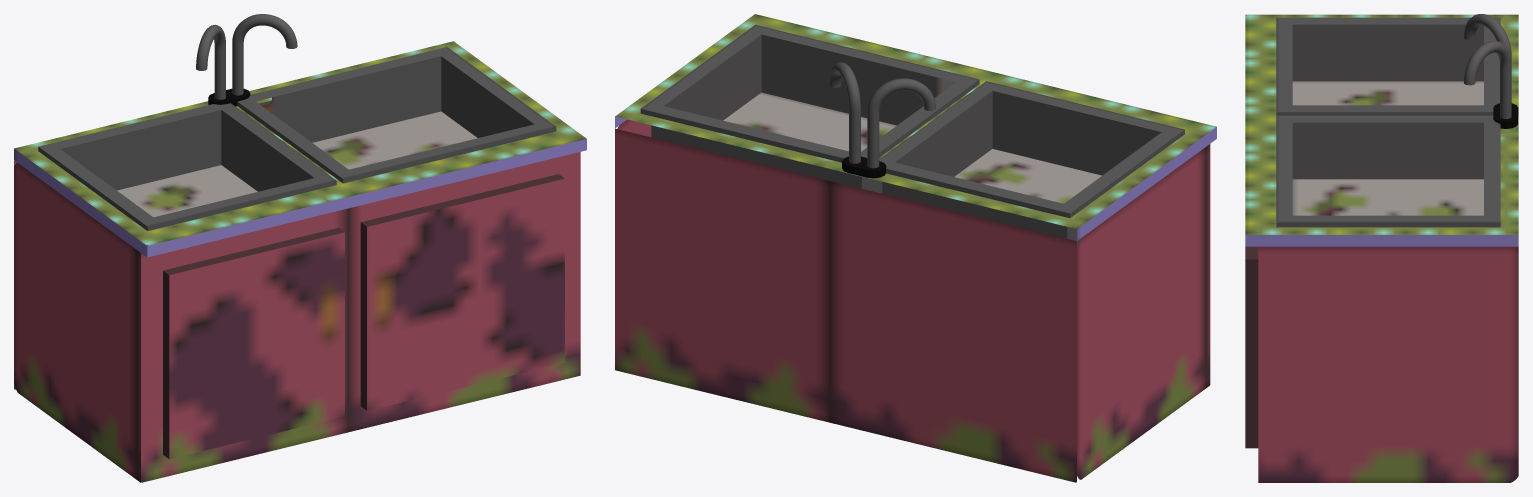
File: Furniture_Sink_TipoA.fbx
The picture shows the model from 3 angles, left to right: view 1: azimuth 30°, elevation 25°; view 2: azimuth 150°, elevation 25°; view 3: azimuth 270°, elevation 25°; orthographic projection. The views are drawn at different scales.
Parts seen in each view (by area): view 1: Cube.019, Cube.063, Cube.062, Cube.020, Cube.021, BézierCurve.001, BézierCurve; view 2: Cube.019, Cube.020, Cube.021, BézierCurve, BézierCurve.001; view 3: Cube.019, Cube.020, Cube.021, Cube.063, BézierCurve.001, BézierCurve, Cylinder.008.
Part boxes in pixels (bbox=[...]): Cube.019: bbox=[14, 41, 586, 482]; Cube.063: bbox=[360, 174, 564, 410]; Cube.062: bbox=[163, 227, 344, 459]; Cube.020: bbox=[237, 47, 556, 183]; Cube.021: bbox=[38, 103, 336, 253]; BézierCurve.001: bbox=[232, 14, 297, 95]; BézierCurve: bbox=[196, 24, 225, 99]; Cube.019: bbox=[615, 14, 1216, 482]; Cube.020: bbox=[640, 25, 979, 193]; Cube.021: bbox=[879, 81, 1184, 247]; BézierCurve: bbox=[867, 78, 935, 168]; BézierCurve.001: bbox=[829, 62, 860, 163]; Cube.019: bbox=[1245, 14, 1518, 482]; Cube.020: bbox=[1276, 115, 1500, 227]; Cube.021: bbox=[1276, 17, 1500, 115]; Cube.063: bbox=[1245, 246, 1258, 448]; BézierCurve.001: bbox=[1463, 41, 1511, 118]; BézierCurve: bbox=[1464, 14, 1511, 61]; Cylinder.008: bbox=[1493, 103, 1518, 128].
Bounding box in the file's own units: 200 × 143 × 105.
